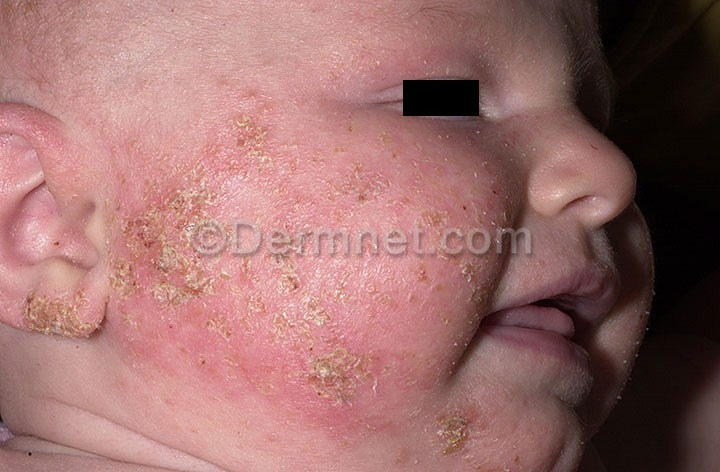Eczema: (77, 90, 485, 470), (16, 281, 74, 343)
